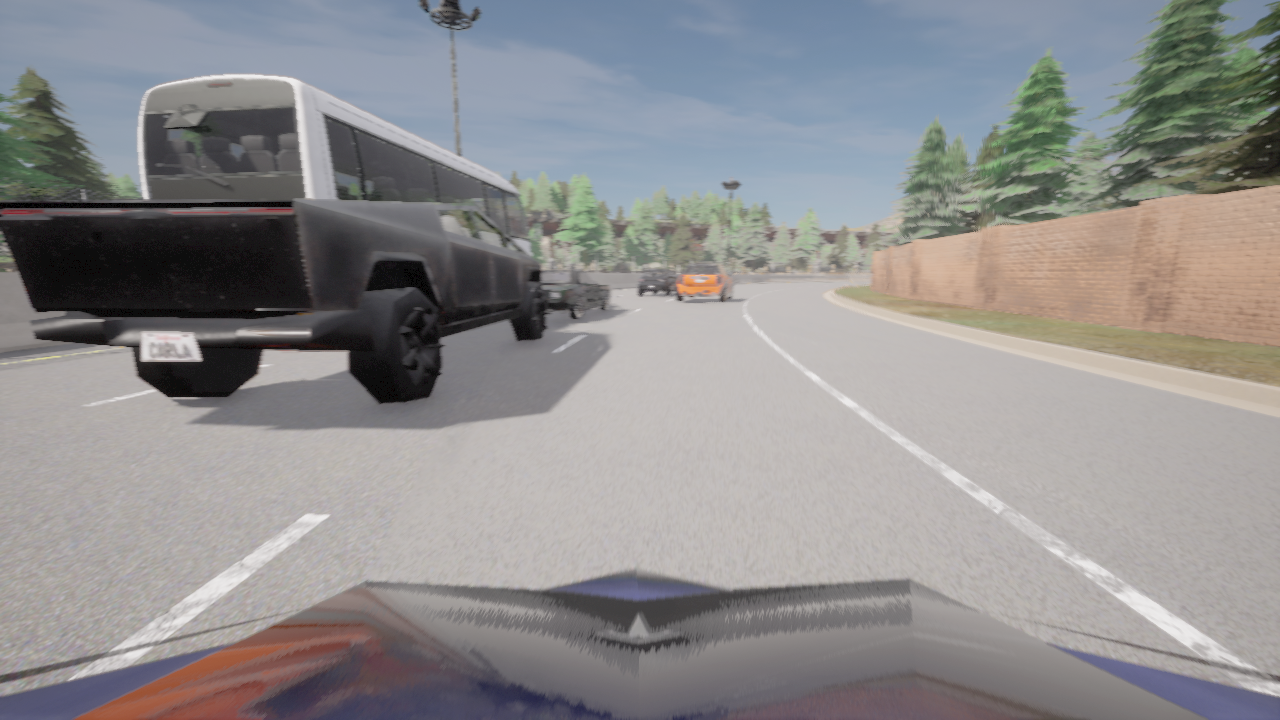cyclist: (0, 569, 1279, 719), (0, 199, 550, 404), (138, 74, 542, 255), (542, 270, 610, 319), (676, 262, 733, 302), (638, 269, 679, 296)
